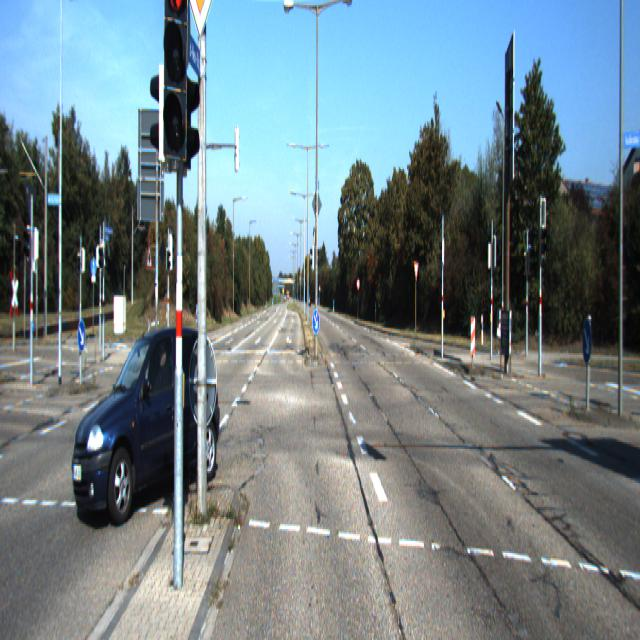Car: (71, 320, 222, 533)
